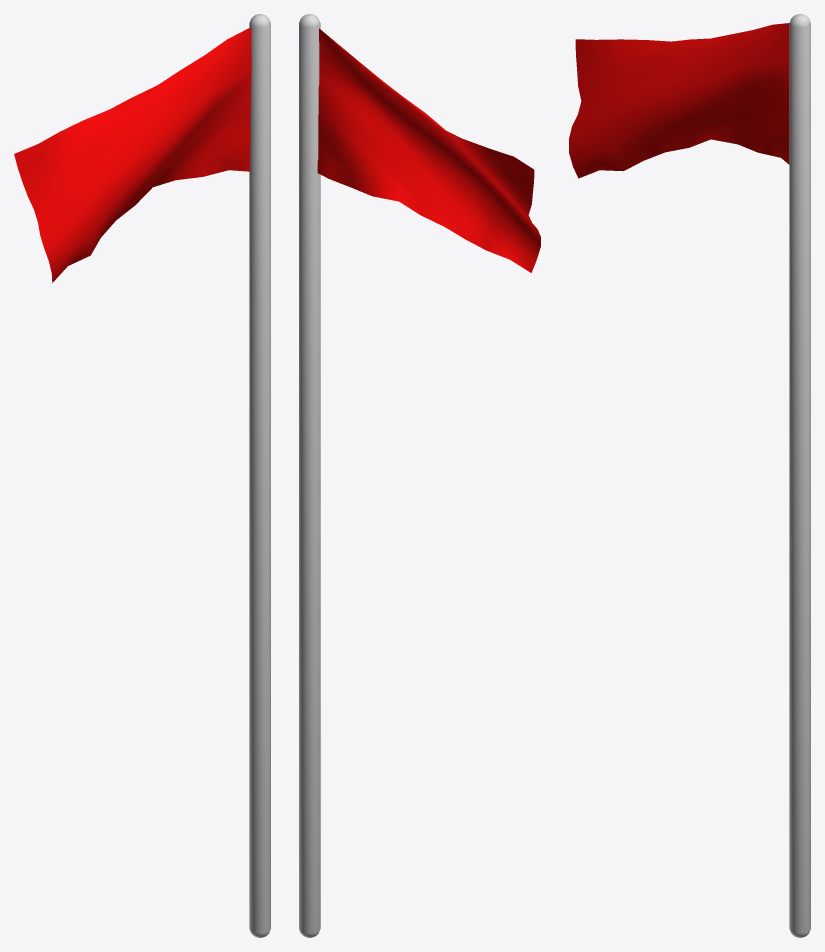
Rendered from qigan@anime.FBX.
3 renders of one model, left to right at view 1: azimuth 30°, elevation 25°; view 2: azimuth 150°, elevation 25°; view 3: azimuth 330°, elevation 25°, orthographic.
Parts seen in each view (by area): view 1: Plane01, Sphere01; view 2: Plane01, Sphere01; view 3: Plane01, Sphere01.
Part boxes in pixels (x1,y1,x2,y2): Plane01: (14, 27, 251, 282); Sphere01: (249, 14, 270, 937); Plane01: (317, 28, 540, 272); Sphere01: (299, 14, 320, 937); Plane01: (569, 23, 789, 178); Sphere01: (789, 14, 810, 937).
Bounding box in the file's own units: 91.4 × 14.51 × 329.
